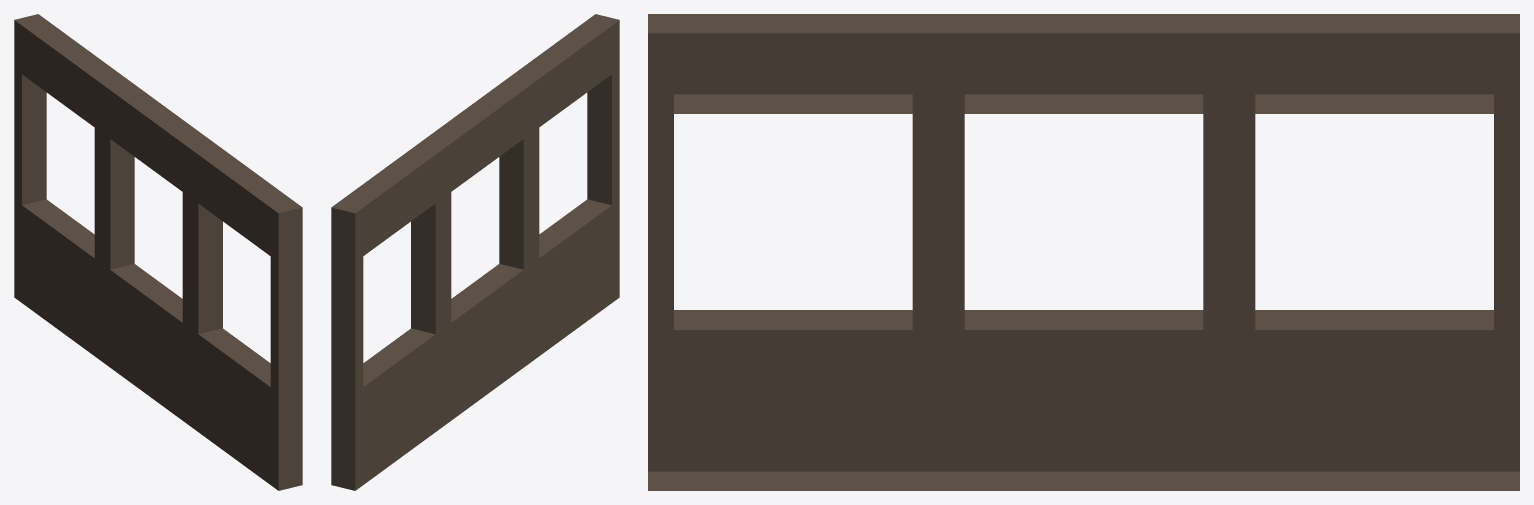
File: Windows.FBX
3 renders of one model, left to right at view 1: azimuth 30°, elevation 25°; view 2: azimuth 150°, elevation 25°; view 3: azimuth 270°, elevation 25°, orthographic. The views are drawn at different scales.
Parts seen in each view (by area): view 1: Line084; view 2: Line084; view 3: Line084.
Part boxes in pixels (<box>): Line084: <box>14,14,302,490</box>; Line084: <box>331,14,619,490</box>; Line084: <box>648,14,1519,490</box>.
Size of the model in its own units: 10.15 by 110 by 190.
